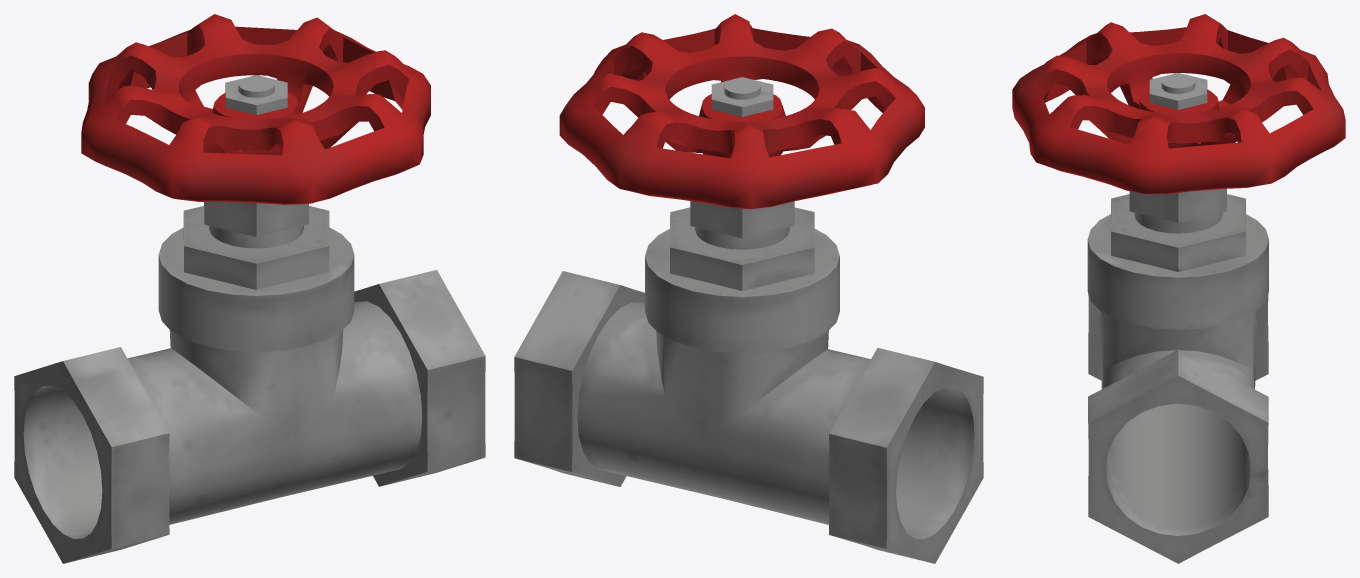
File: ModularPipes_Small.fbx
3 views of the same model, side by side, from view 1: azimuth 30°, elevation 25°; view 2: azimuth 150°, elevation 25°; view 3: azimuth 270°, elevation 25° (orthographic). The views are drawn at different scales.
Visible parts, largest first — view 1: Small_HandValve, Object001; view 2: Small_HandValve, Object001; view 3: Small_HandValve, Object001.
Boxes of the visible parts, x1,y1,x2,y2 form: Small_HandValve: (14,201,485,563); Object001: (81,14,430,204); Small_HandValve: (514,201,983,563); Object001: (559,14,924,209); Small_HandValve: (1087,188,1268,563); Object001: (1012,14,1345,194).
Bounding box in the file's own units: 4.13 × 4.74 × 3.44.
1 material, 1 textured.
